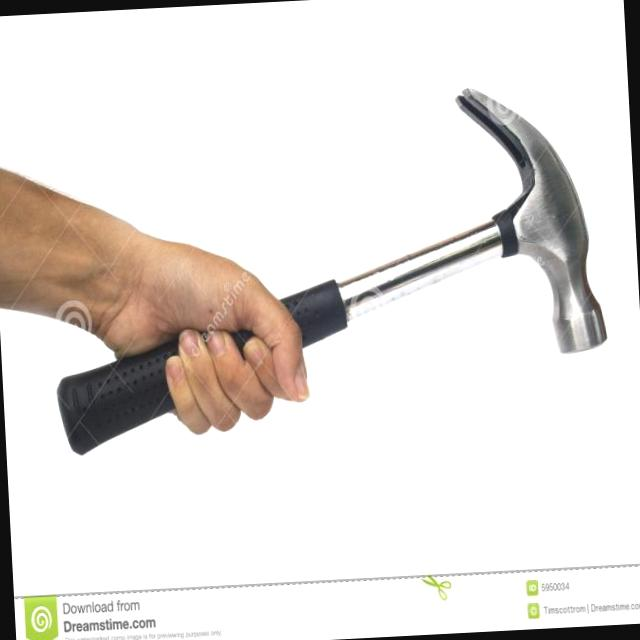hammer: (281, 90, 606, 352), (59, 344, 172, 452)
